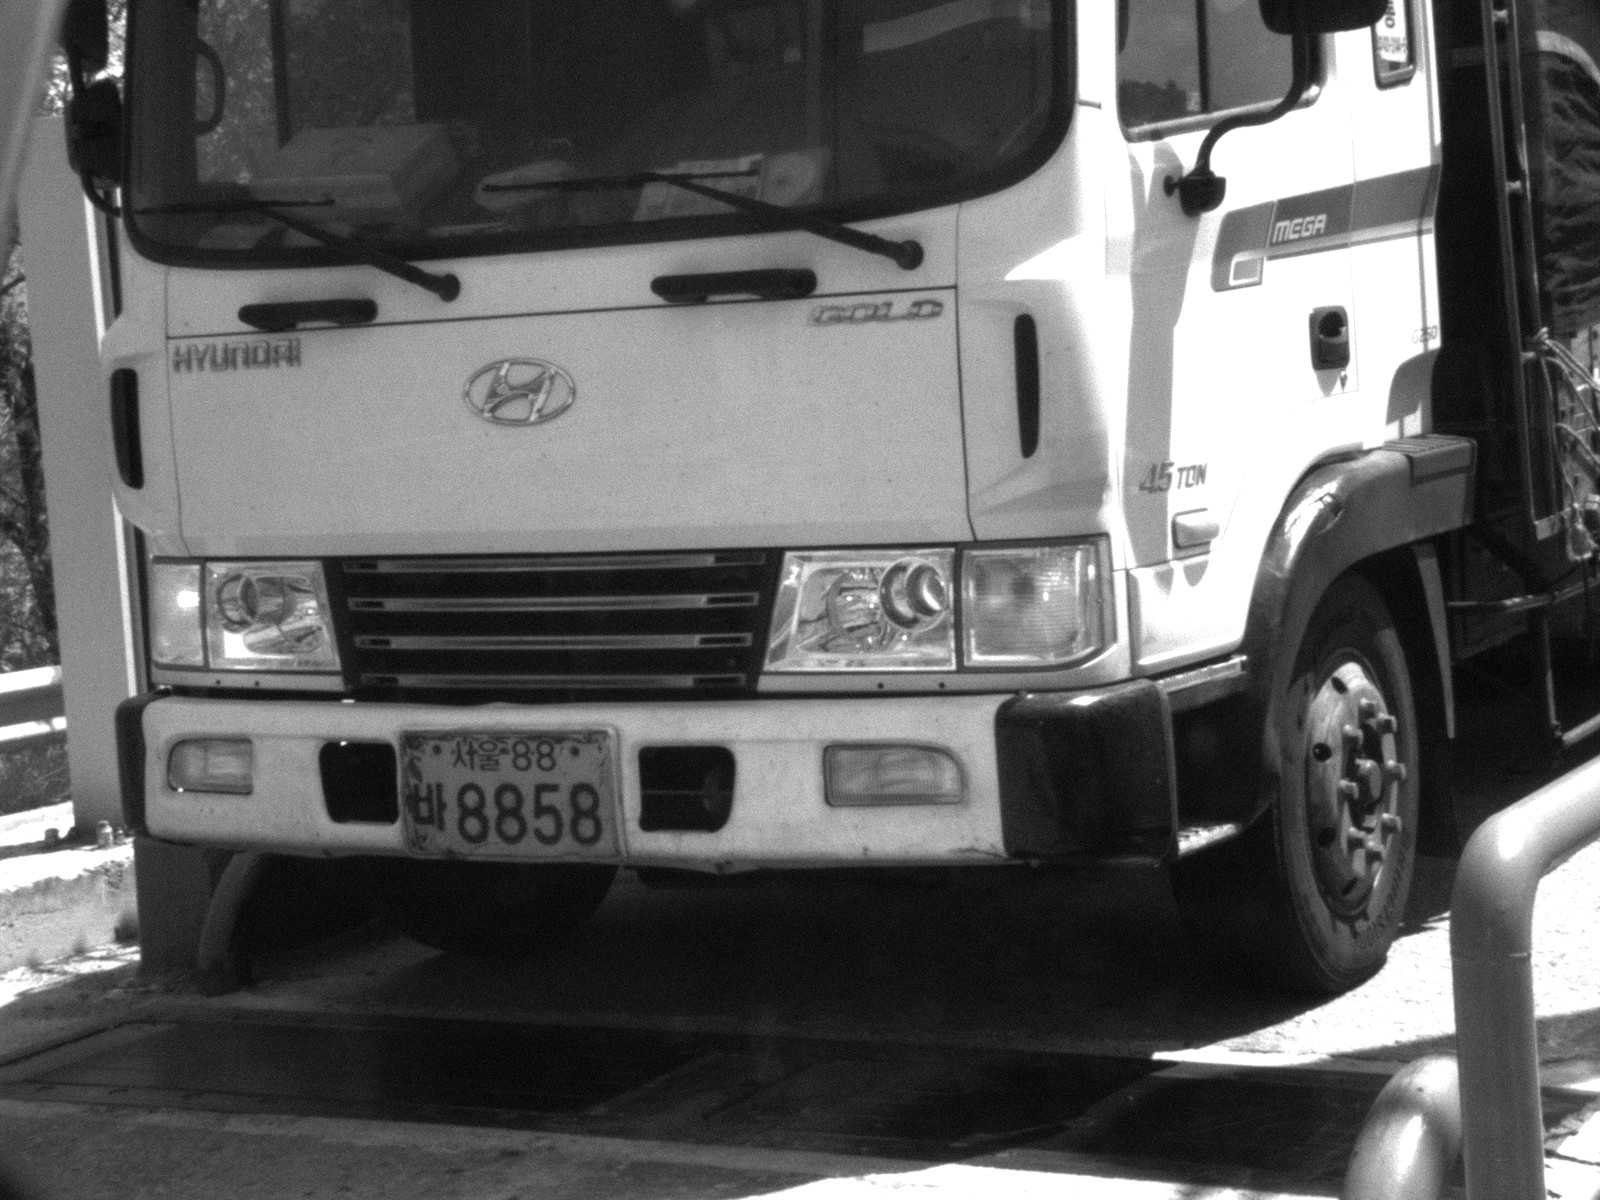car: (13, 1, 1598, 999)
plate: (393, 723, 634, 875)
